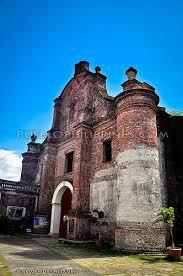santa_maria_church_santa_maria_ilocos_sur: (19, 54, 170, 259)
unfinished_paint: (86, 144, 166, 224)
